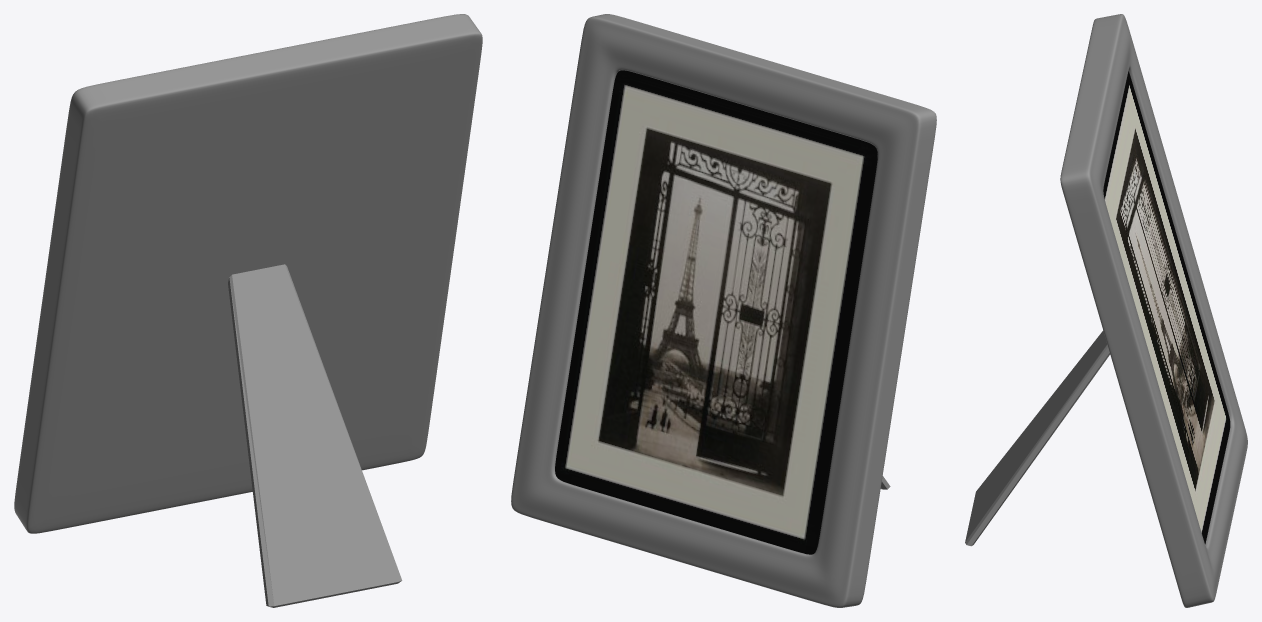
The model's file is picture.FBX.
3 renders of one model, left to right at view 1: azimuth 30°, elevation 25°; view 2: azimuth 150°, elevation 25°; view 3: azimuth 270°, elevation 25°, orthographic. The views are drawn at different scales.
Parts seen in each view (by area): view 1: ArchInteriors_12_05_obj_132, ArchInteriors_12_05_obj_128; view 2: ArchInteriors_12_05_obj_129, ArchInteriors_12_05_obj_132; view 3: ArchInteriors_12_05_obj_132, ArchInteriors_12_05_obj_129, ArchInteriors_12_05_obj_128.
Boxes of the visible parts, x1,y1,x2,y2 form: ArchInteriors_12_05_obj_132: (14, 14, 482, 533); ArchInteriors_12_05_obj_128: (228, 264, 402, 607); ArchInteriors_12_05_obj_129: (555, 70, 877, 554); ArchInteriors_12_05_obj_132: (511, 14, 936, 607); ArchInteriors_12_05_obj_132: (1060, 14, 1247, 607); ArchInteriors_12_05_obj_129: (1103, 71, 1230, 544); ArchInteriors_12_05_obj_128: (965, 330, 1110, 546).
Size of the model in its own units: 136 by 162 by 95.98.
2 materials, 1 textured.
